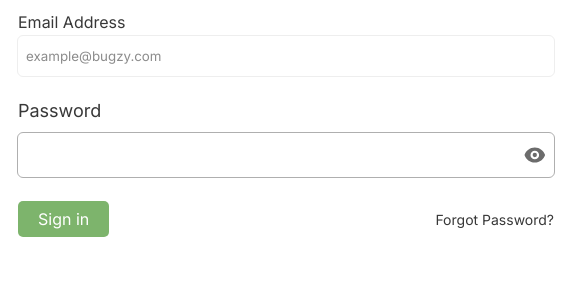
Test case: LoginForm › should display 'required' errors when values are empty
What coordinates should you click on to do the following:
click the button "Sign in"
I would click on:
 (64, 219)
Its box is [18, 201, 109, 237].
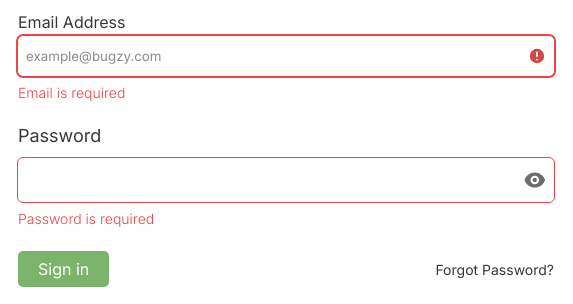
Expected: the text "Email is required" is shown, [18, 84, 125, 101]
Expected: the text "Password is required" is shown, [18, 210, 154, 227]
